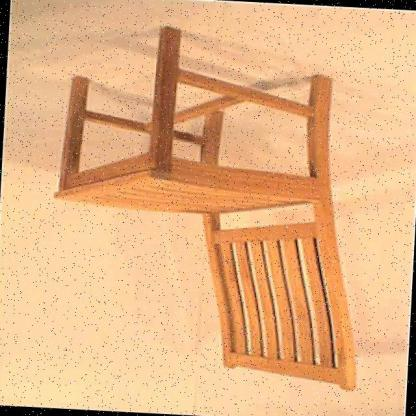Chair: (22, 7, 390, 400)
